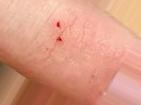Spider: (41, 18, 67, 47)
